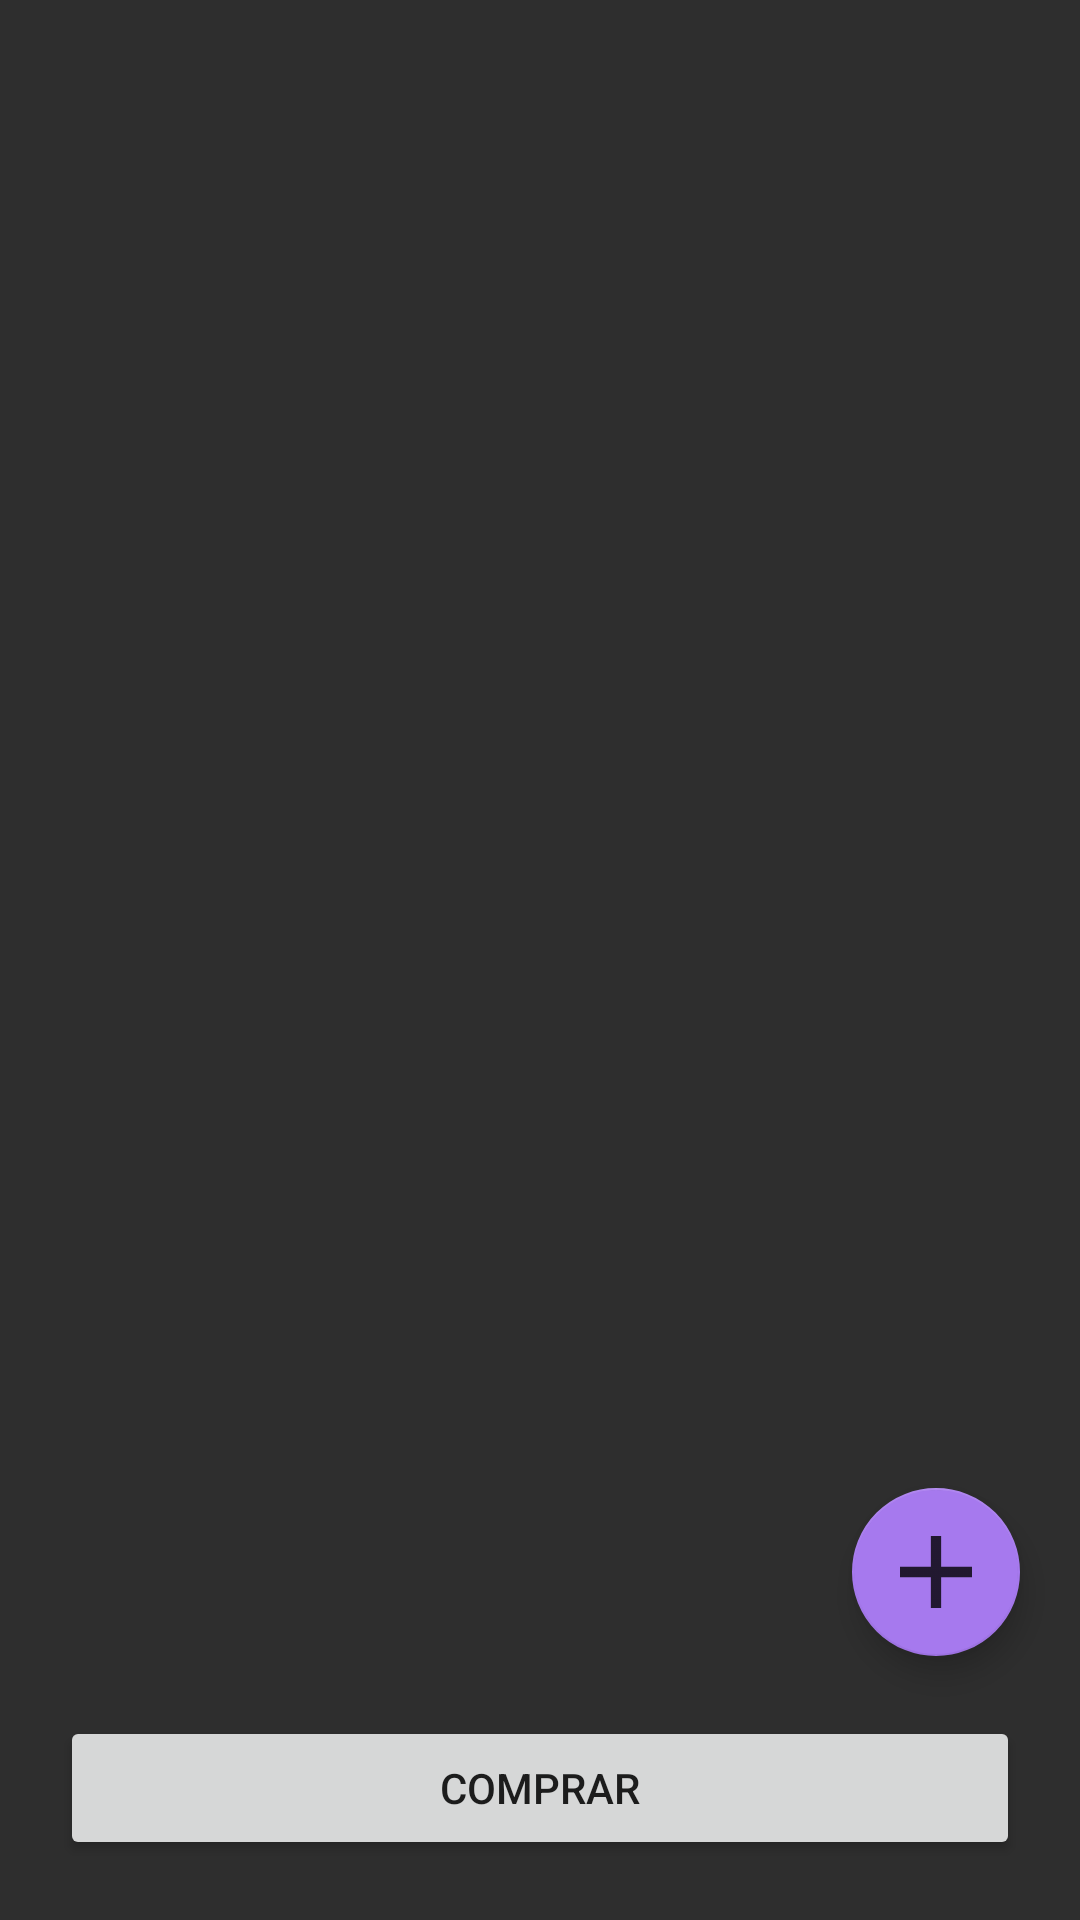

Point at icon controls on the screen. Image size 1080px×1920px, points as (x=x, y=y).
add: (x=936, y=1572)
